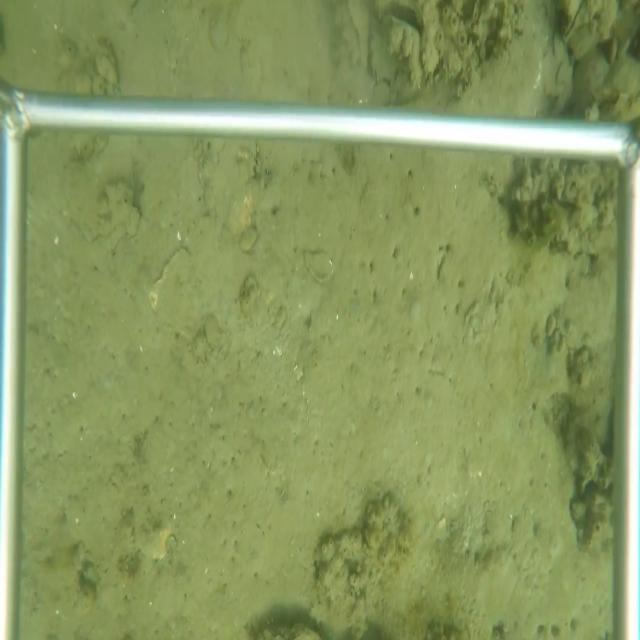Oyster-Closed: (560, 3, 587, 47)
